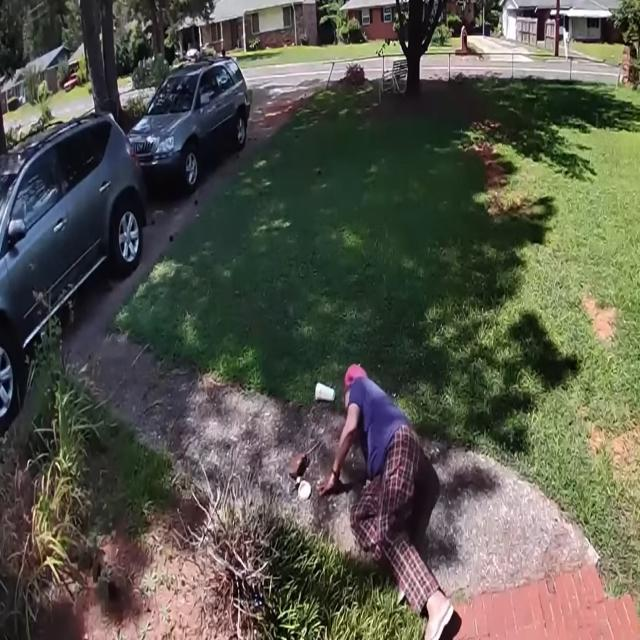fallen: (319, 364, 453, 639)
